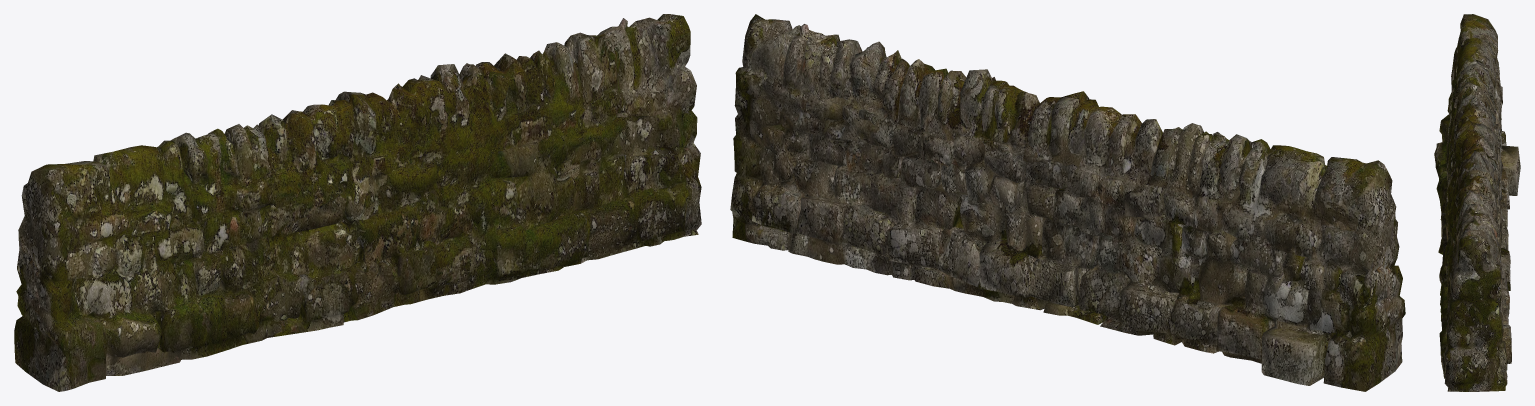
File: stone_wall.glb
3 renders of one model, left to right at view 1: azimuth 30°, elevation 25°; view 2: azimuth 150°, elevation 25°; view 3: azimuth 270°, elevation 25°, orthographic. The views are drawn at different scales.
Parts seen in each view (by area): view 1: stoneWall_S_Mossy_Stone_Wall_ujyjbehqx_lod3_Var10_LOD0; view 2: stoneWall_S_Mossy_Stone_Wall_ujyjbehqx_lod3_Var10_LOD0; view 3: stoneWall_S_Mossy_Stone_Wall_ujyjbehqx_lod3_Var10_LOD0.
Boxes of the visible parts, x1,y1,x2,y2 form: stoneWall_S_Mossy_Stone_Wall_ujyjbehqx_lod3_Var10_LOD0: (14,14,701,391); stoneWall_S_Mossy_Stone_Wall_ujyjbehqx_lod3_Var10_LOD0: (730,14,1405,391); stoneWall_S_Mossy_Stone_Wall_ujyjbehqx_lod3_Var10_LOD0: (1434,14,1520,391).
Size of the model in its own units: 3.98 by 1.26 by 0.6282.
Materials: 1 (1 with a texture image).
